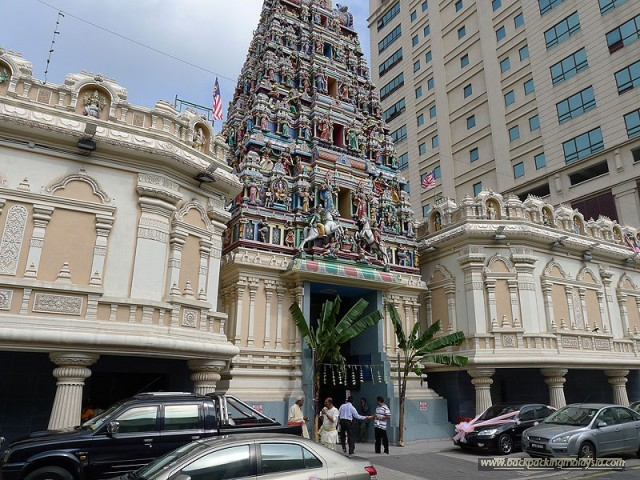Hindu Temple: (205, 1, 422, 390)
